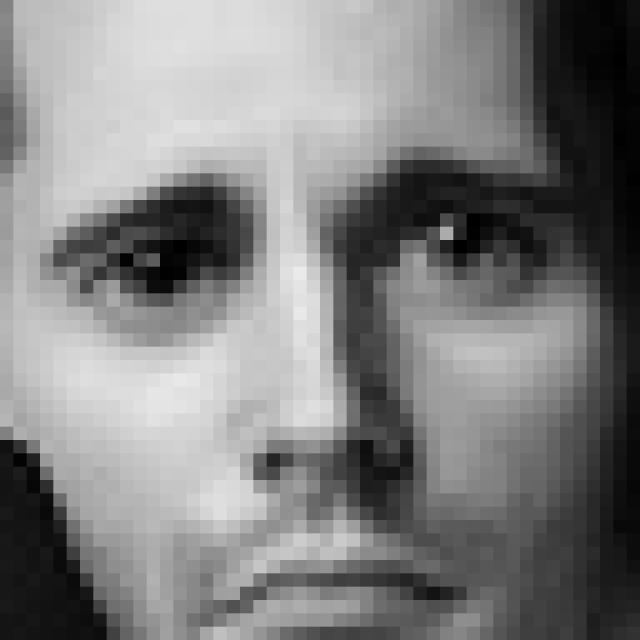sad: (36, 141, 575, 640)
